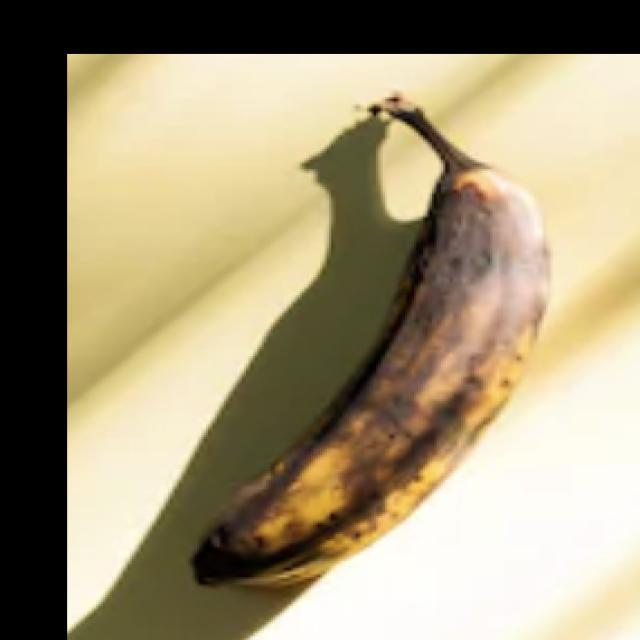Rotten: (155, 86, 591, 602)
